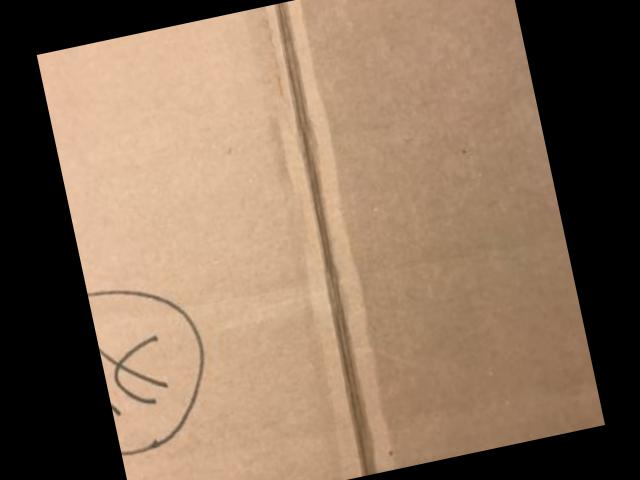cardboard paper: (35, 0, 605, 480)
